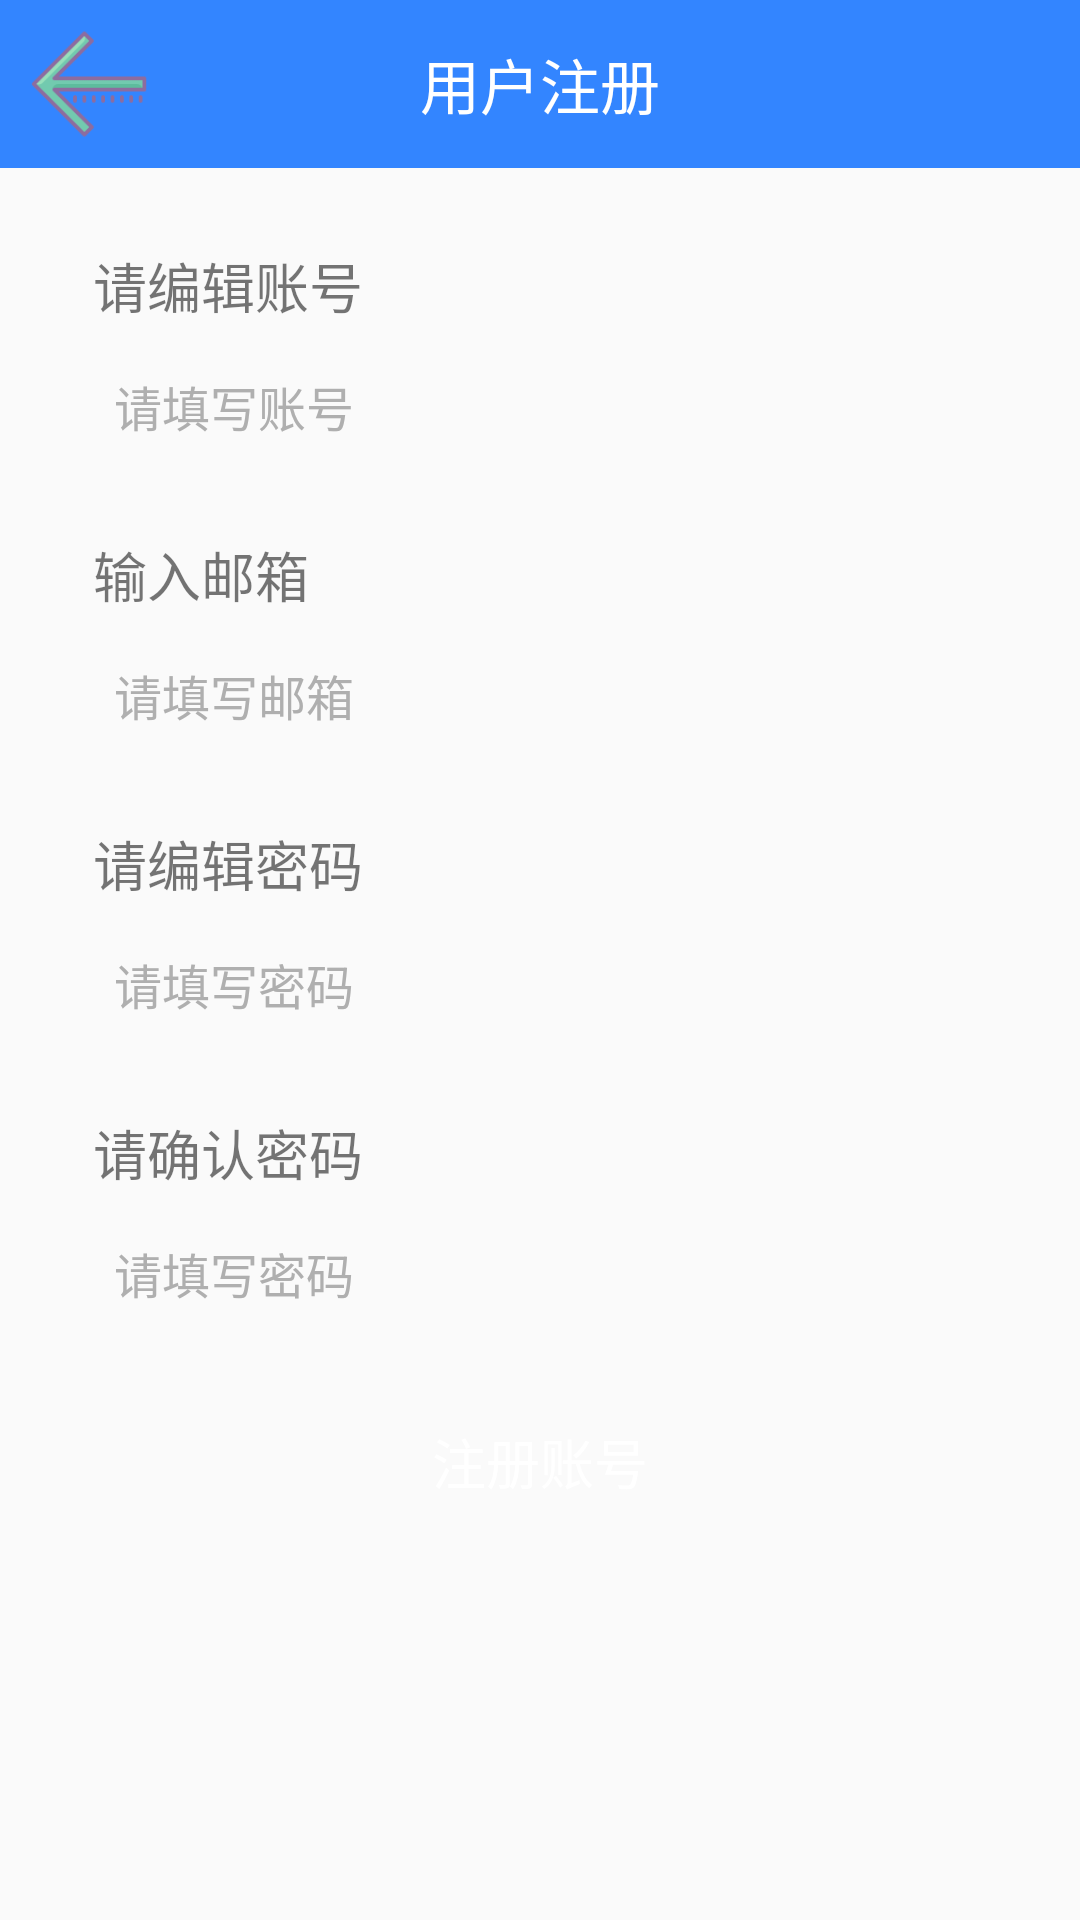

Locate icon controls on the screen. Image size 1080w x 1920h, boxes as [x1,y1,x2,y2].
back: [32,31,146,137]
